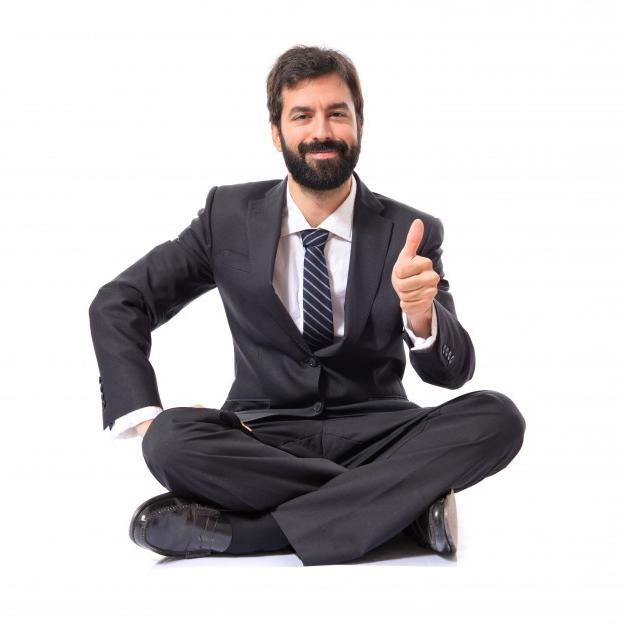thumbsup: (396, 219, 440, 314)
